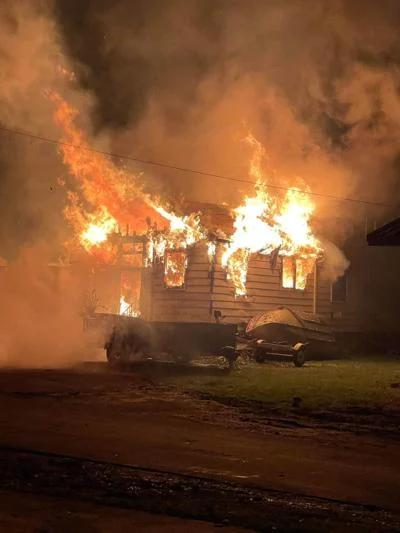Fire: (42, 61, 201, 288), (205, 124, 329, 303), (115, 294, 143, 318)
